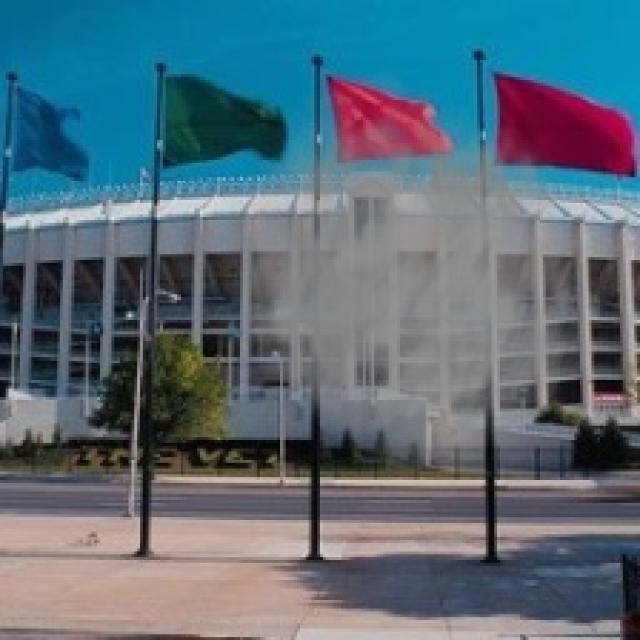smoke: (206, 66, 594, 474)
